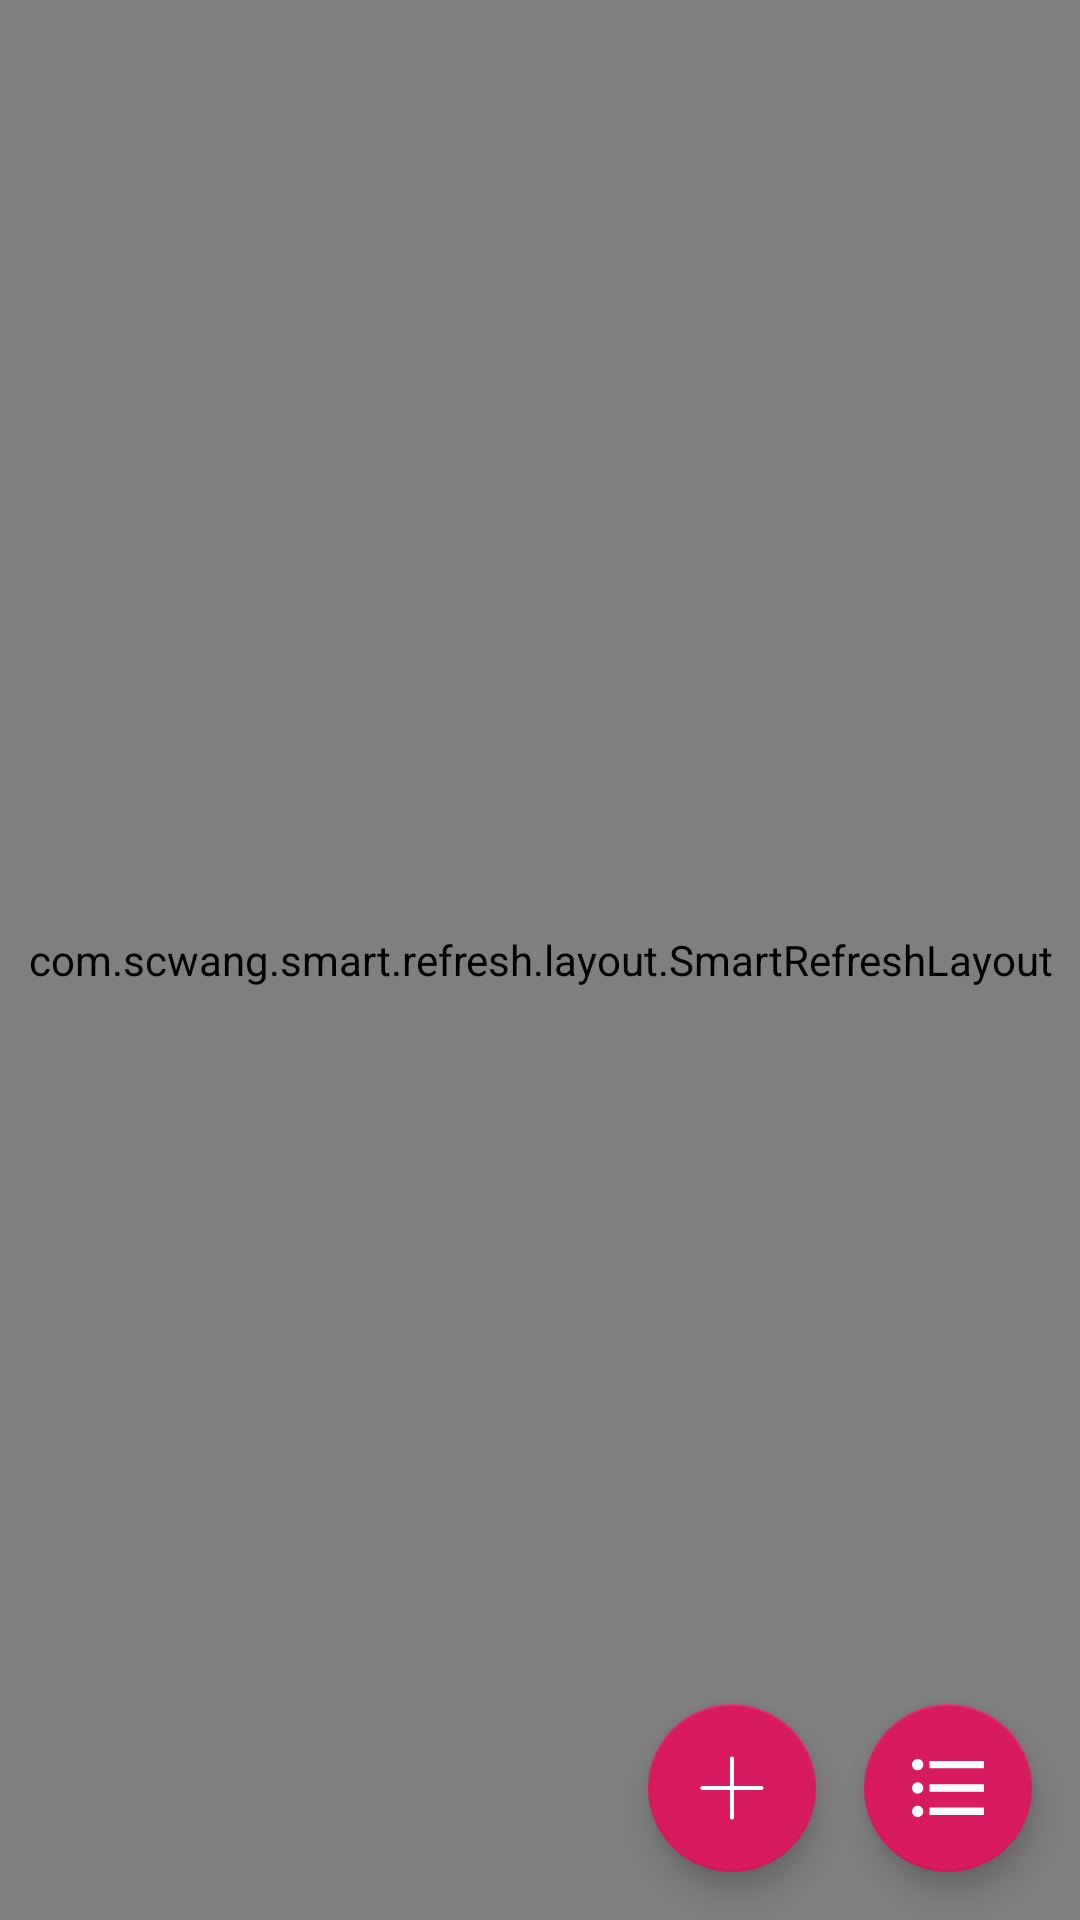

Icon click points for this 1080 x 1920 phone screenshot, format point (x, y):
add: point (732, 1788)
menu: point (948, 1788)
